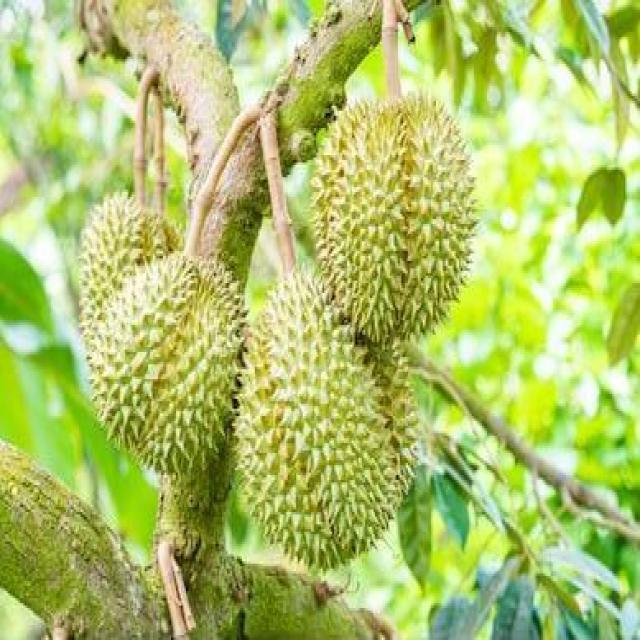immature: (235, 262, 418, 573), (309, 88, 481, 351), (84, 248, 248, 471)
